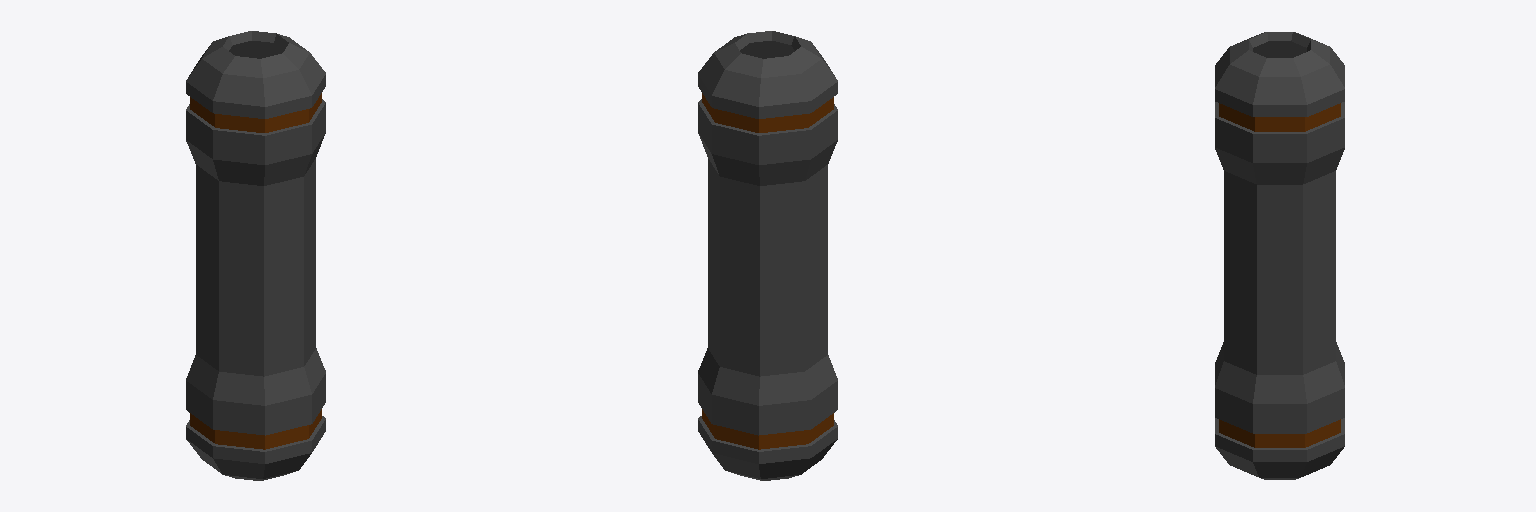
Rendered from Props_Vessel_Tall.obj.
3 views of the same model, side by side, from view 1: azimuth 30°, elevation 25°; view 2: azimuth 150°, elevation 25°; view 3: azimuth 270°, elevation 25° (orthographic).
Parts seen in each view (by area): view 1: Props_Vessel_Tall_Cube.033; view 2: Props_Vessel_Tall_Cube.033; view 3: Props_Vessel_Tall_Cube.033.
Part boxes in pixels (left/top/right/bottom): Props_Vessel_Tall_Cube.033: left=186, top=31, right=325, bottom=480; Props_Vessel_Tall_Cube.033: left=698, top=31, right=837, bottom=480; Props_Vessel_Tall_Cube.033: left=1215, top=32, right=1344, bottom=479.
Size of the model in its own units: 0.2873 by 1.02 by 0.2873.